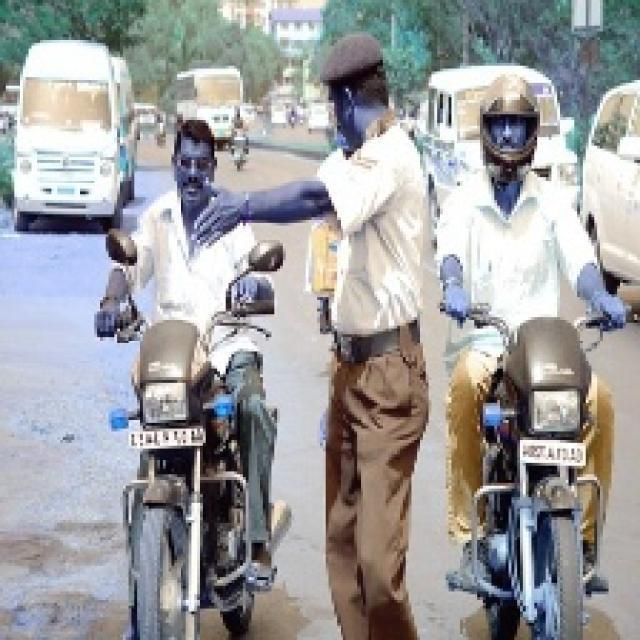bike: (466, 267, 586, 638), (118, 309, 256, 630)
